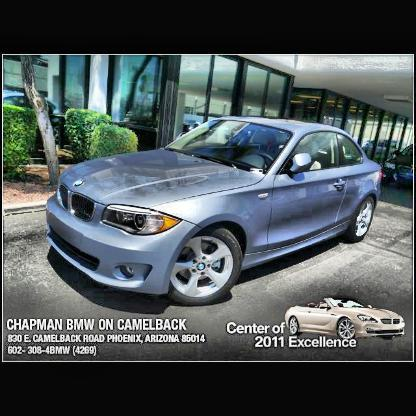BMW 1 Series Coupe 2012: (47, 115, 384, 308)
